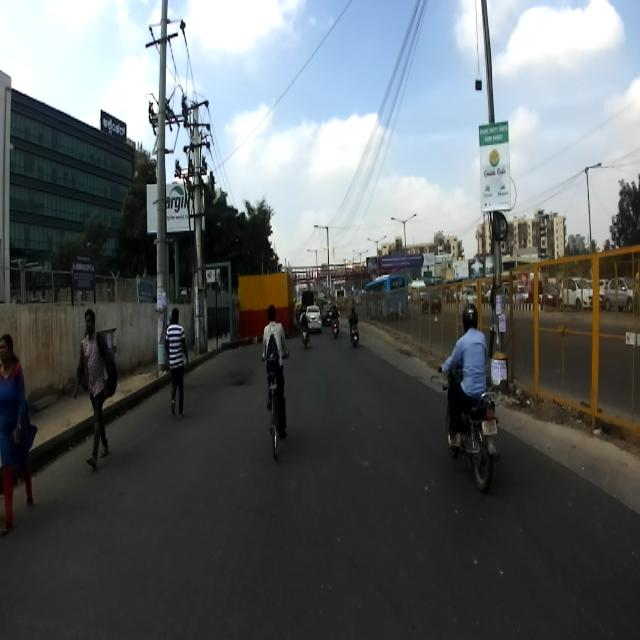bicycle ahead at: (252, 374, 293, 470)
electric pole ahead at: (140, 0, 183, 380)
motorcycle ahead at: (438, 393, 501, 488)
person ahead at: (0, 332, 42, 538), (77, 292, 116, 476), (160, 306, 192, 420)
